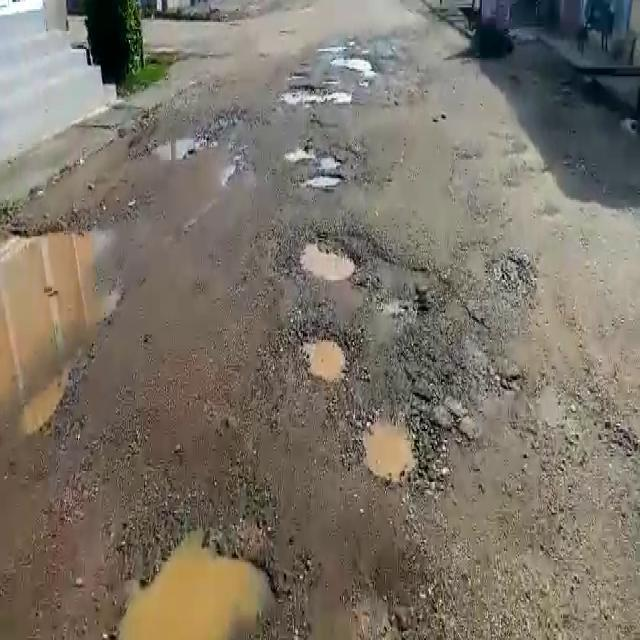pothole: (112, 524, 279, 640), (360, 409, 423, 482), (295, 231, 358, 286), (300, 331, 352, 385), (278, 82, 351, 106), (155, 132, 201, 164), (286, 143, 343, 166), (298, 170, 351, 194), (341, 55, 382, 77)
